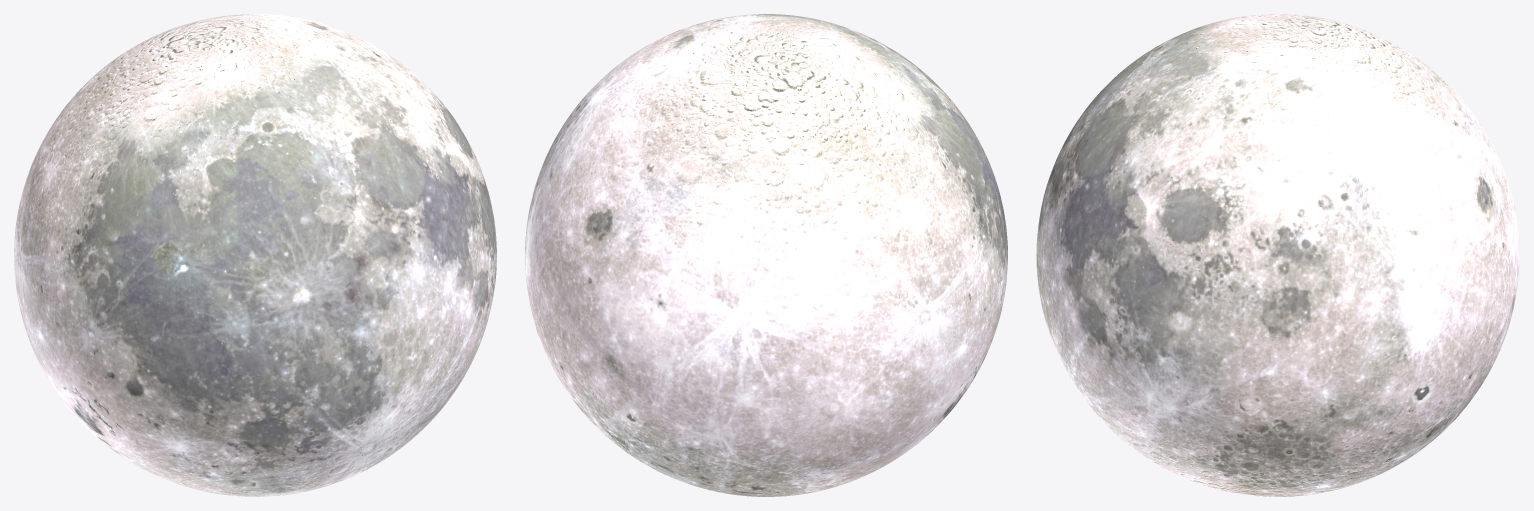
The model's file is moon.glb.
The picture shows the model from 3 angles, left to right: view 1: azimuth 30°, elevation 25°; view 2: azimuth 150°, elevation 25°; view 3: azimuth 270°, elevation 25°; orthographic projection.
Parts seen in each view (by area): view 1: Object_3; view 2: Object_3; view 3: Object_3.
Part boxes in pixels (x1=…): Object_3: x1=14, y1=14, x2=496, y2=496; Object_3: x1=525, y1=14, x2=1007, y2=496; Object_3: x1=1036, y1=14, x2=1519, y2=496.
Bounding box in the file's own units: 0.8657 × 0.8657 × 0.8657.
1 material, 1 textured.
